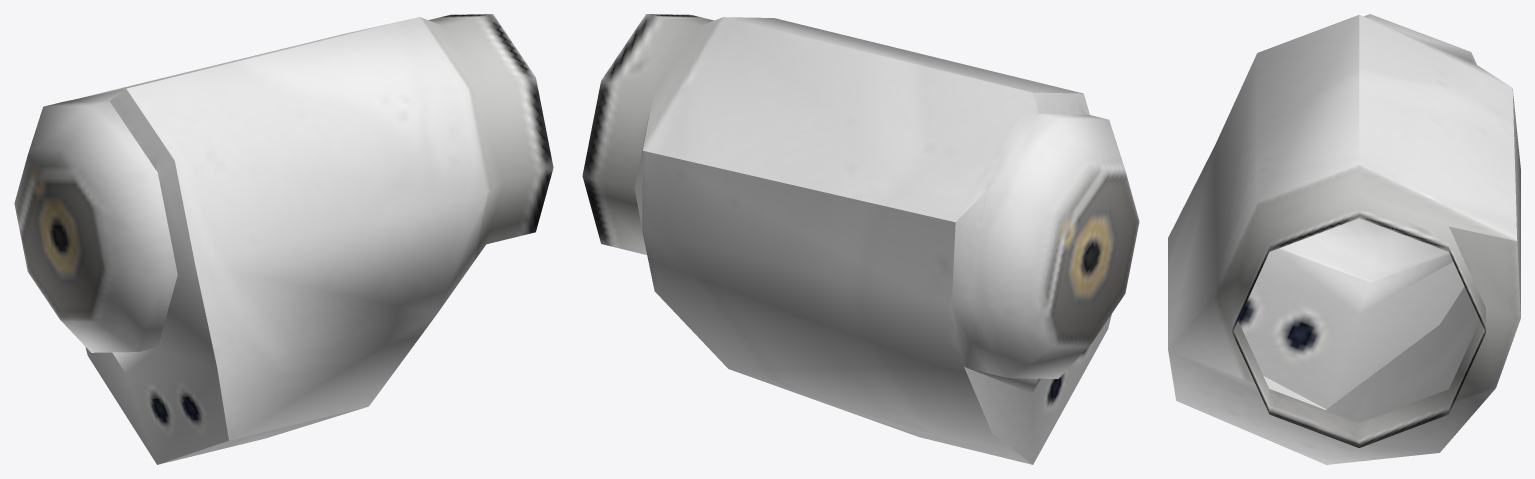
File: little_arm_link_2.dae
3 renders of one model, left to right at view 1: azimuth 30°, elevation 25°; view 2: azimuth 150°, elevation 25°; view 3: azimuth 270°, elevation 25°, orthographic. The views are drawn at different scales.
Visible parts, largest first — view 1: Little_Arm_2; view 2: Little_Arm_2; view 3: Little_Arm_2.
Boxes of the visible parts, bbox=[...] form: Little_Arm_2: bbox=[14, 14, 553, 464]; Little_Arm_2: bbox=[582, 14, 1139, 464]; Little_Arm_2: bbox=[1168, 14, 1520, 464].
Bounding box in the file's own units: 0.3869 × 0.2632 × 0.3185.
Materials: 1 (1 with a texture image).
